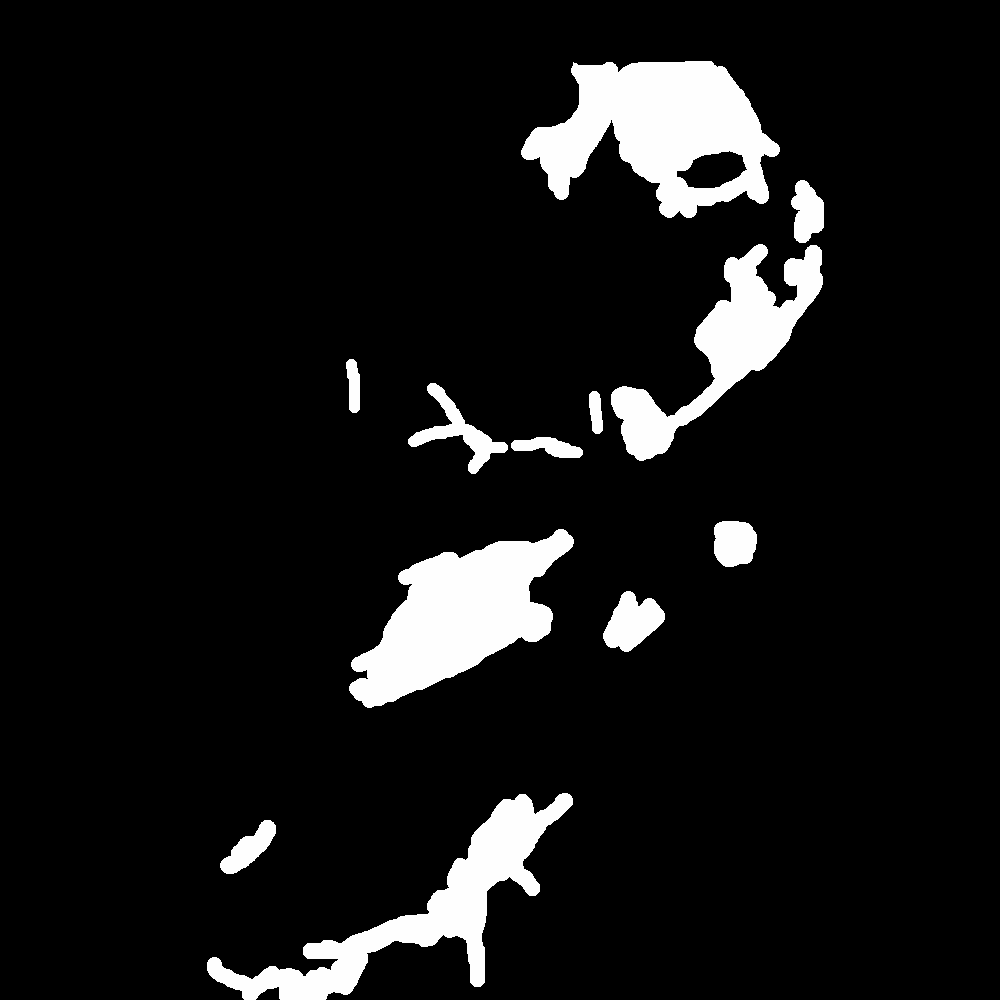illegal: (211, 793, 543, 1000), (318, 528, 574, 729), (533, 57, 830, 208), (683, 188, 825, 419), (338, 382, 725, 466), (714, 497, 811, 563), (605, 583, 658, 647)
